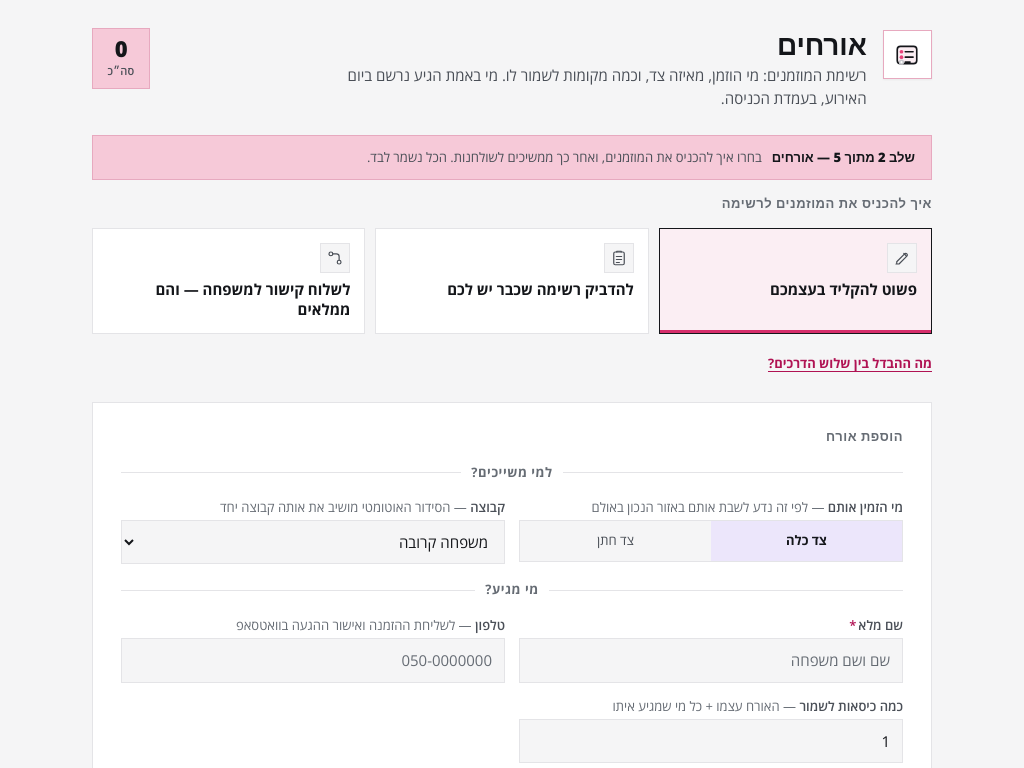
Test case: GuestManagerScreen — editing a guest must not blank what the form never asked about › a companion seat with no name is flagged at the seat, not in a toast
The image size is (1024, 768).
Type "רון" into the field with placeholder "שם ושם משפחה".
click(711, 660); type("רון")  # box [519,638,903,683]
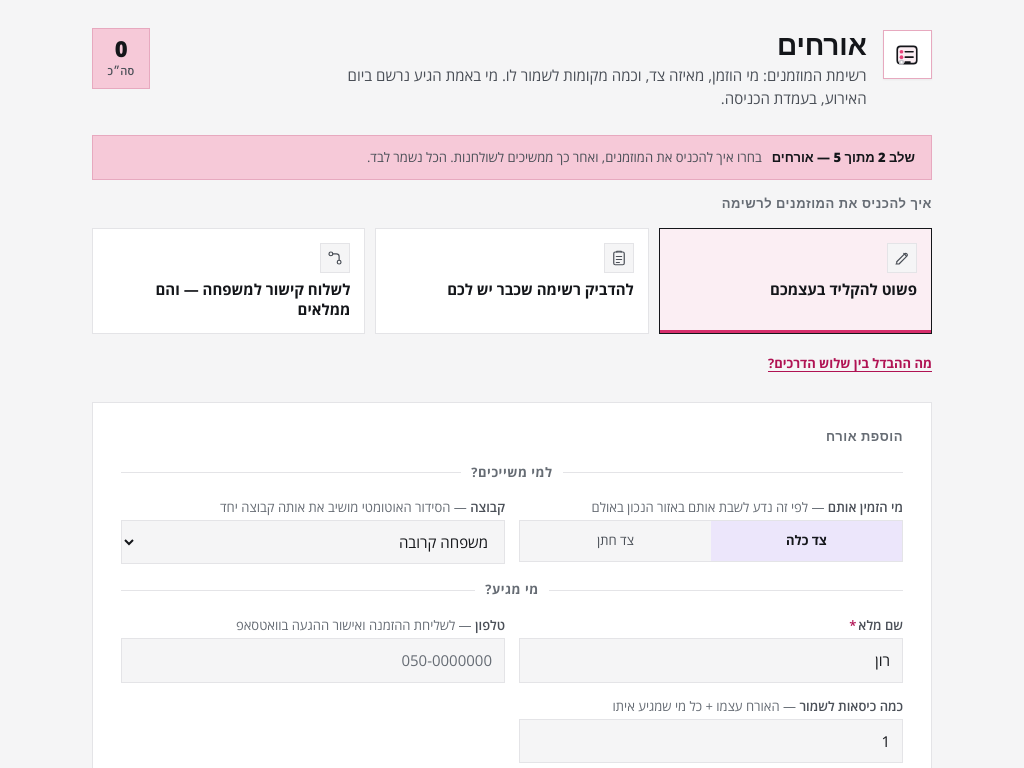
Replace the text in the number field labelled "כמה כיסאות לשמור — האורח עצמו + כל מי שמגיע איתו" with "2" at (711, 741), box [519,719,903,763]
(page scrolled)
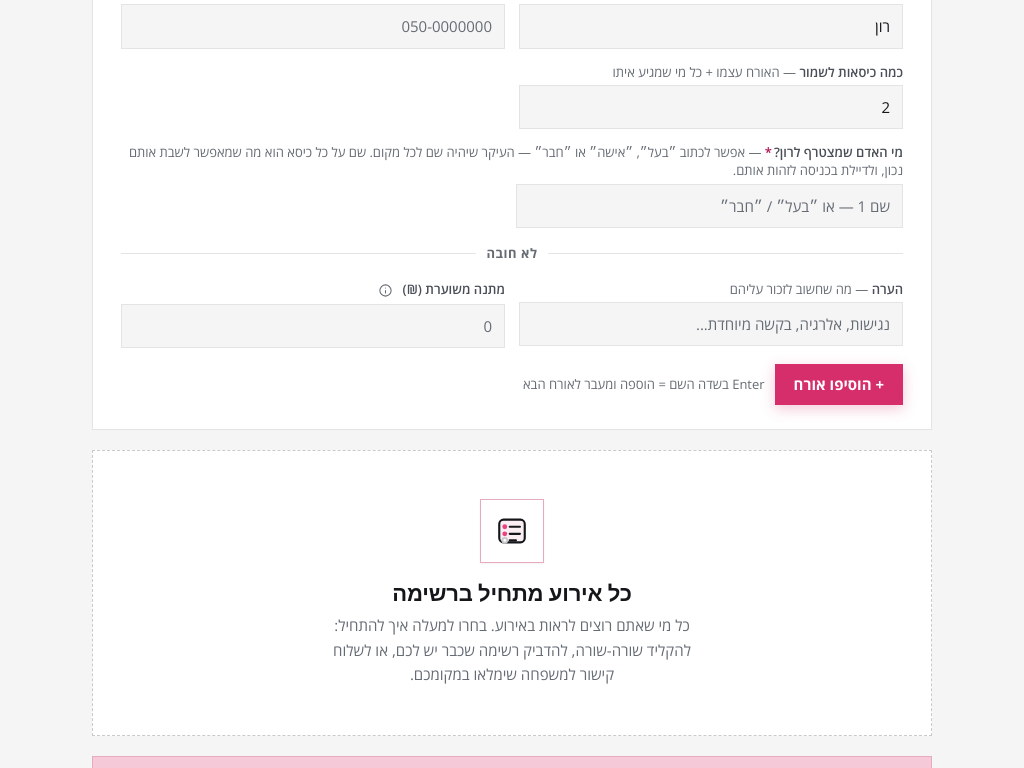
Click the button "+ הוסיפו אורח".
click(839, 384)  # box [775,364,903,405]
(page scrolled)
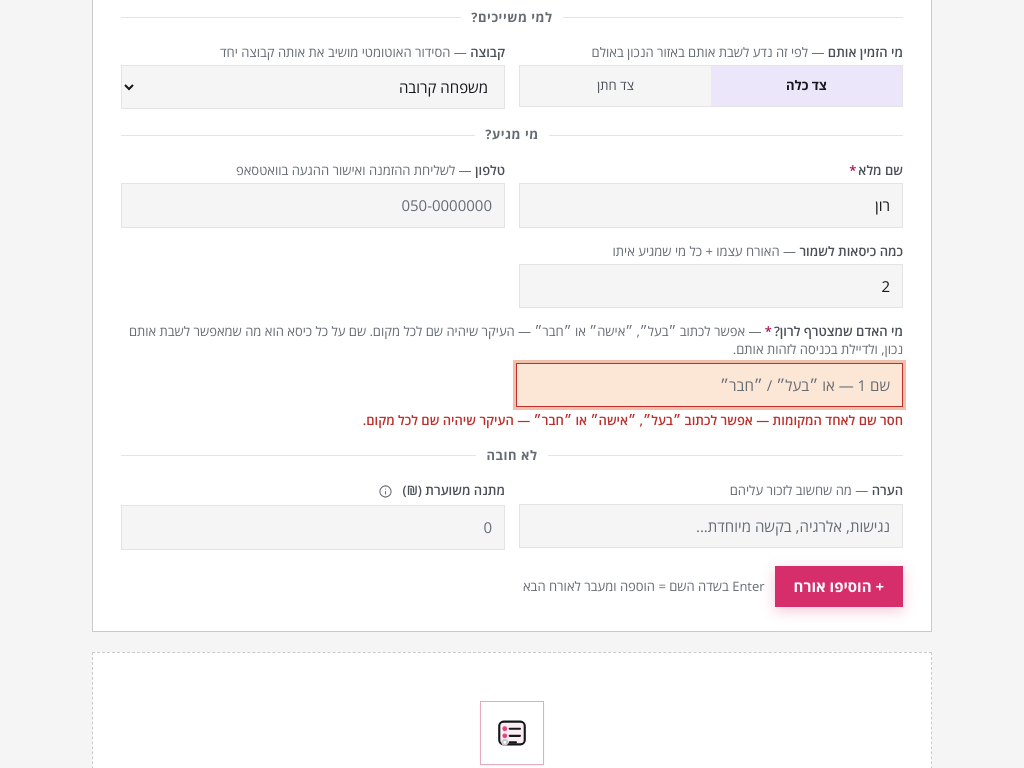
expect the message shows "העיקר שיהיה שם לכל מקום": met, box [363,411,903,429]
